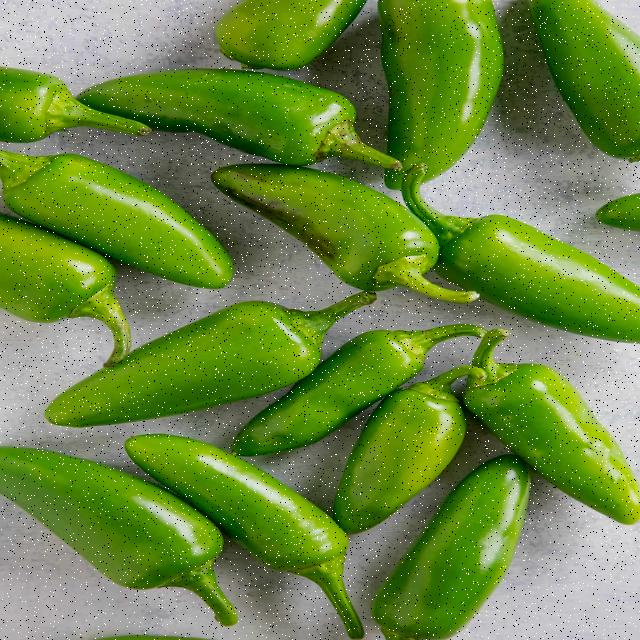Chili Pepper: (20, 306, 383, 457), (98, 46, 446, 186), (0, 134, 240, 303), (459, 320, 640, 540)
